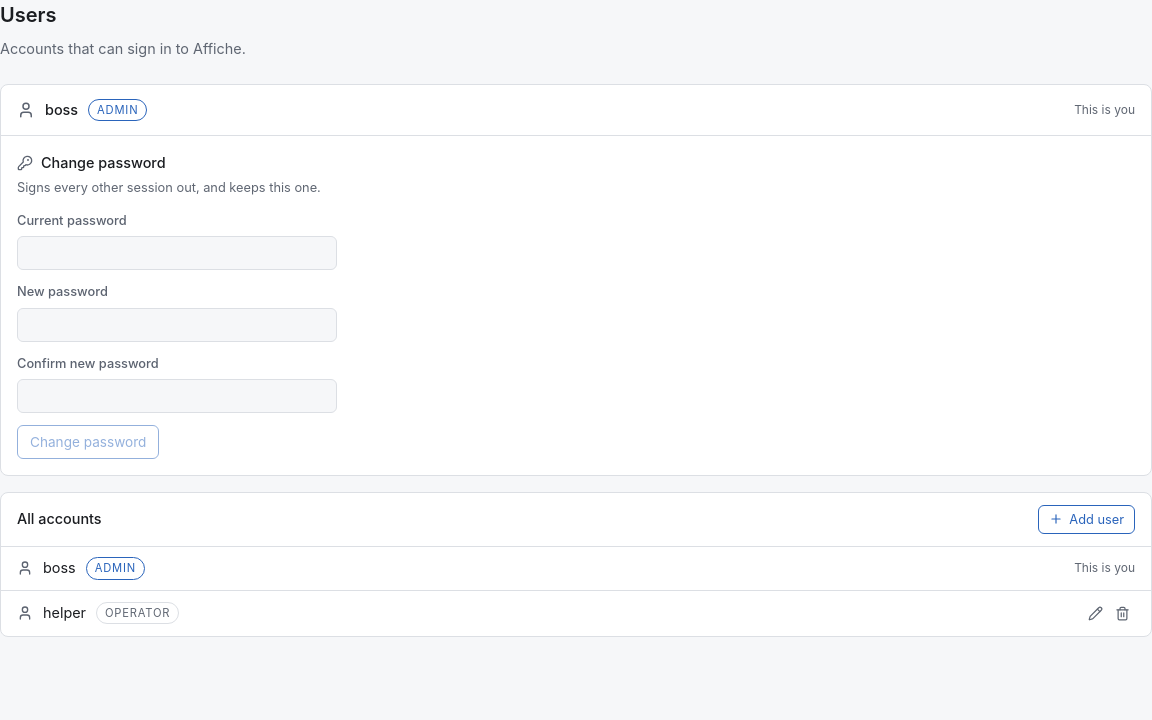
Test: UsersSettings role changes › sends the new role on save and shows what came back
The image size is (1152, 720).
Click the button named "Edit helper" at (1096, 613), box 1083,601 -> 1108,626
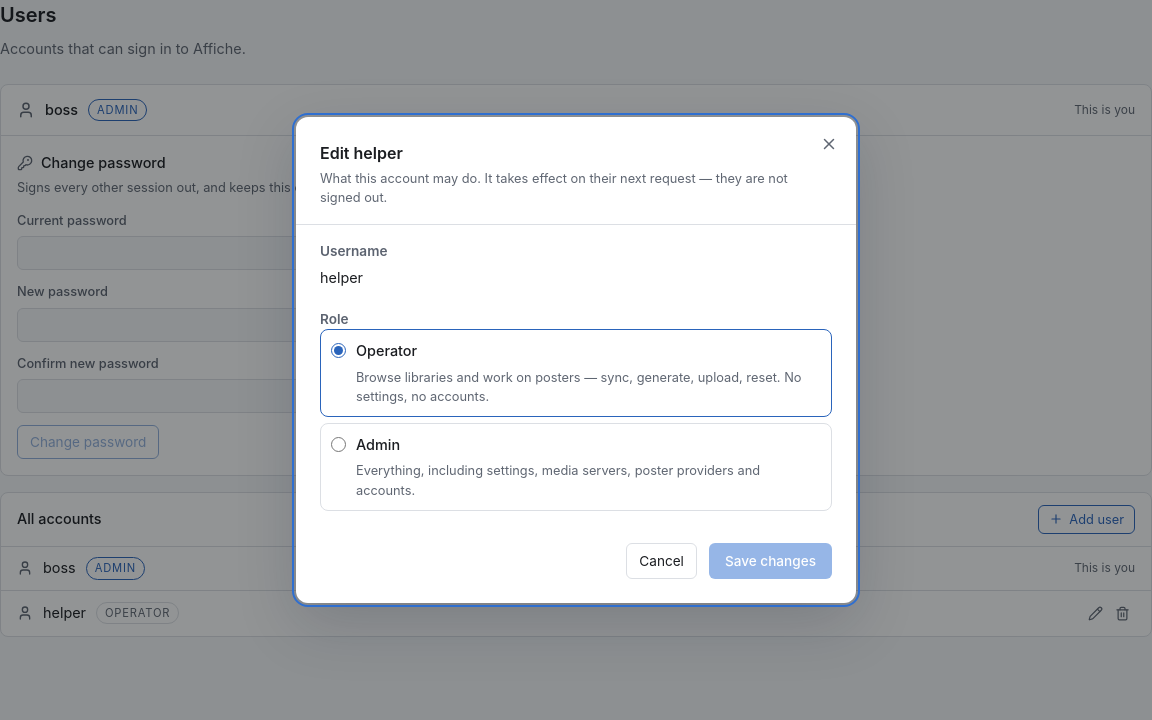
Click the radio button labelled "Admin" at (338, 444), box 331,437 -> 346,452
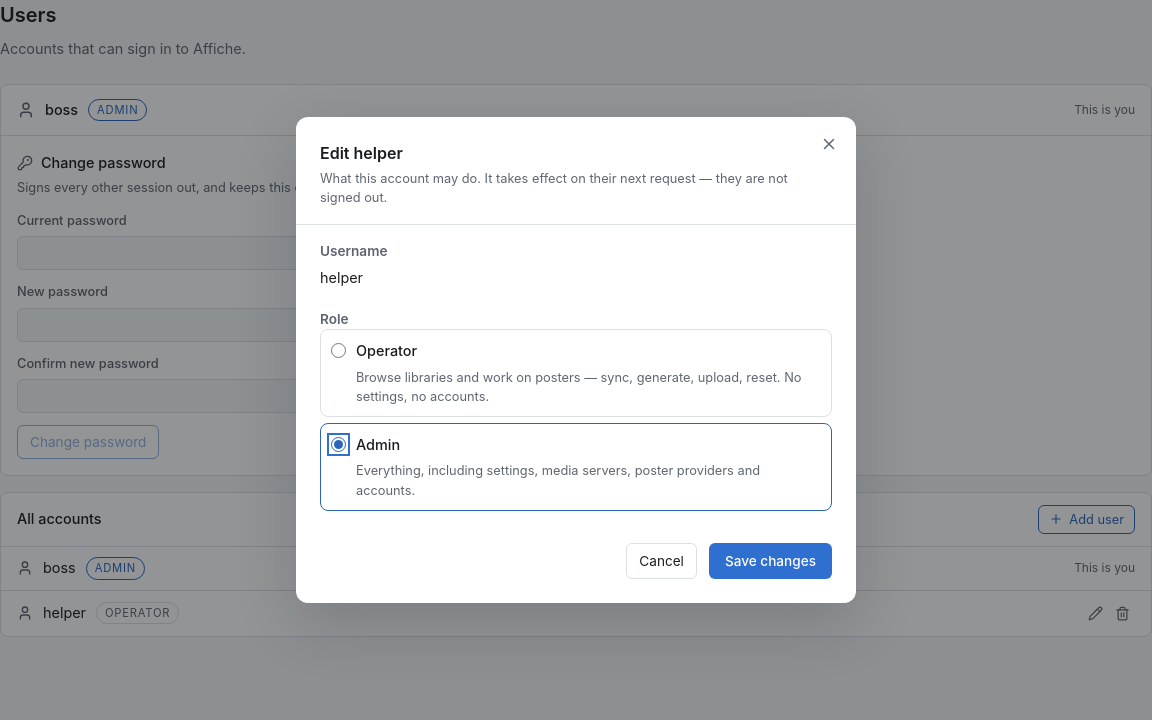
Click the button "Save changes" at (770, 561), box 709,543 -> 832,579
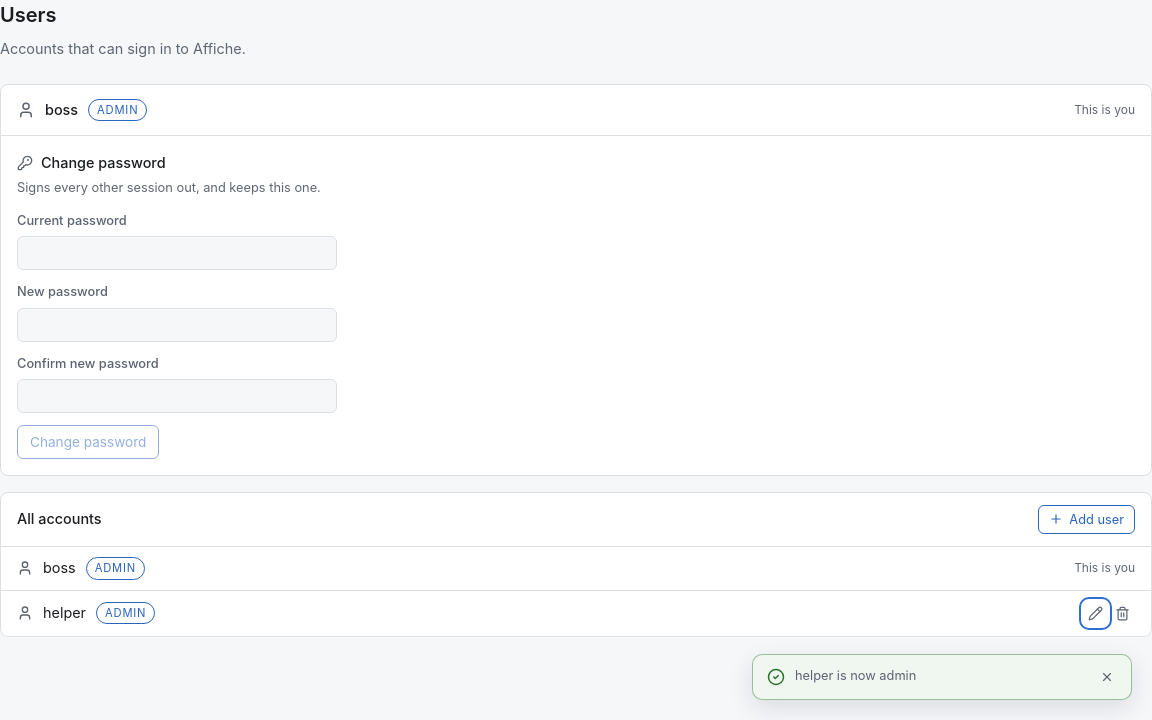
Now the button "Save changes" is gone
Click the button named "Edit helper" at (1096, 613), box 1083,601 -> 1108,626
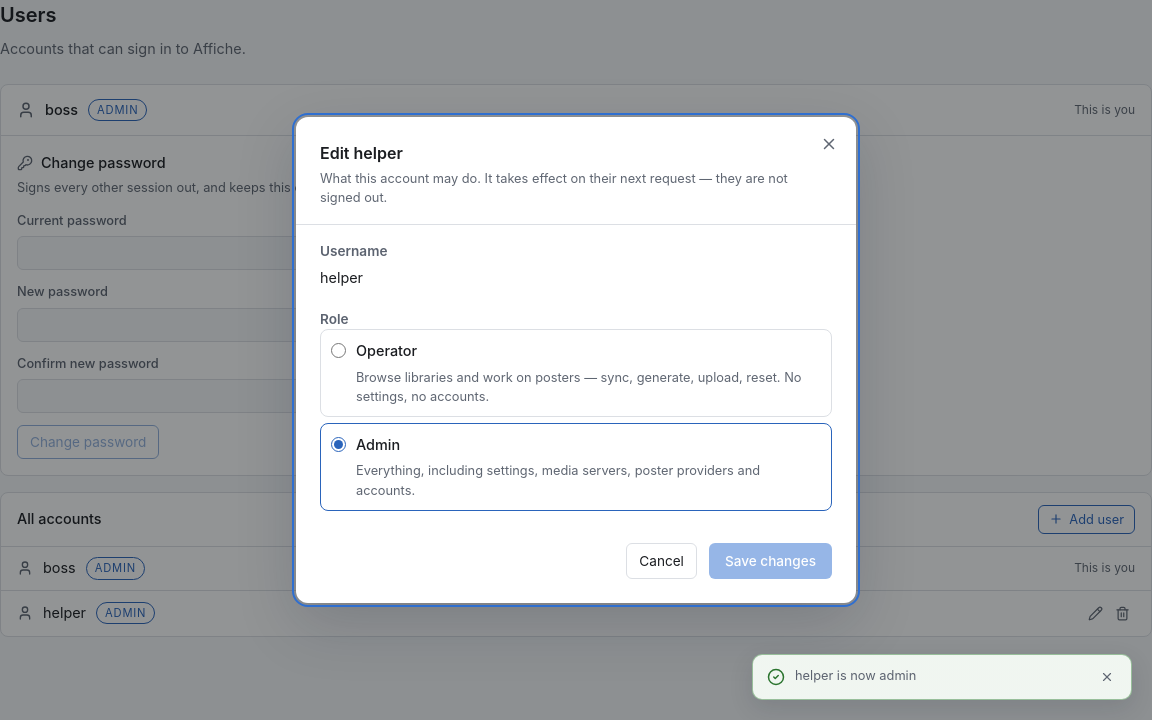
Now the radio button labelled "Admin" is checked, box 331,437 -> 346,452
